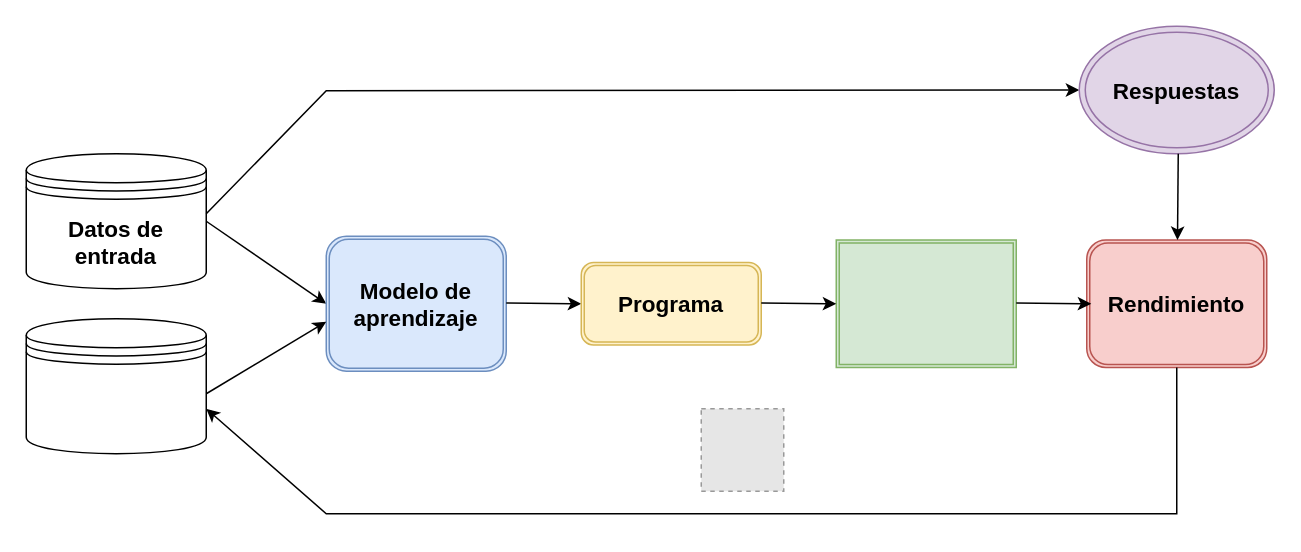
The diagram is 1301 pixels wide and 552 high, and some of its shapes have lost their labels. Grey dashed boxes stand in for pictures. The shapes that lost their labels are listed below. From the top down, each one's centre as x and y in pixels, then its label:
point 925,303: Resultados
point 115,385: Parámetros
